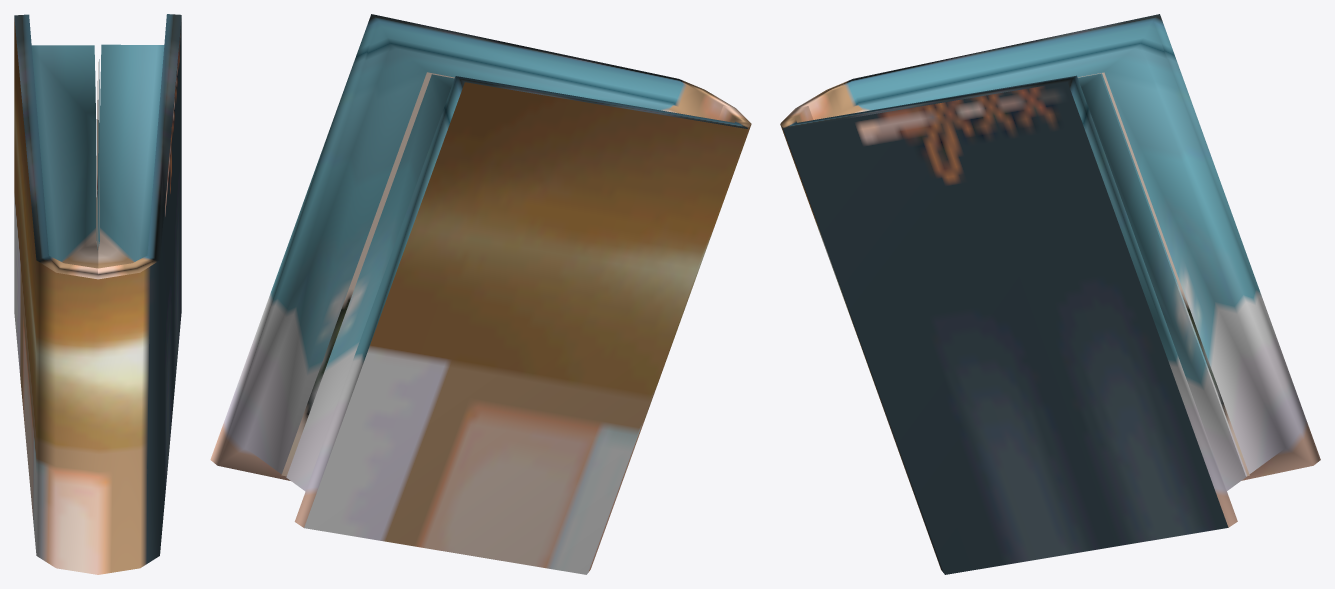
Rendered from view.ico.obj.
The picture shows the model from 3 angles, left to right: view 1: azimuth 30°, elevation 25°; view 2: azimuth 150°, elevation 25°; view 3: azimuth 270°, elevation 25°; orthographic projection. The views are drawn at different scales.
Bounding box in the file's own units: 2.33 × 3.48 × 3.13.
